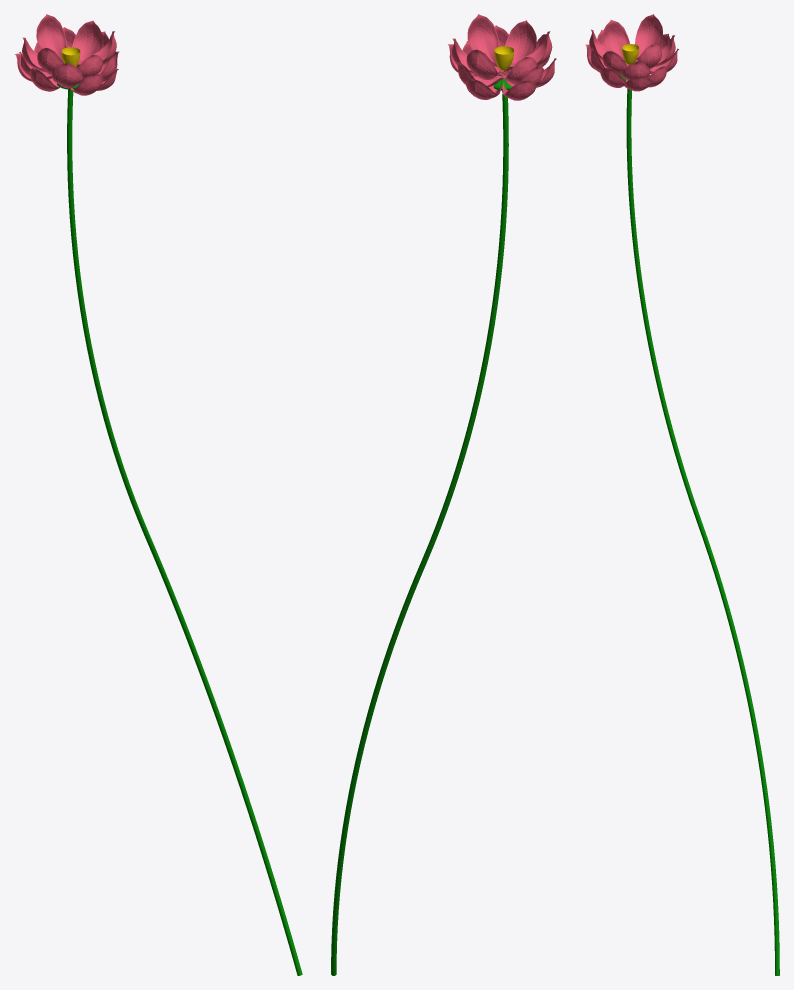
File: Lotus099.fbx
The picture shows the model from 3 angles, left to right: view 1: azimuth 30°, elevation 25°; view 2: azimuth 150°, elevation 25°; view 3: azimuth 330°, elevation 25°; orthographic projection. The views are drawn at different scales.
Visible parts, largest first — view 1: pCylinder5, nurbsToPoly23, nurbsToPoly19; view 2: pCylinder5, nurbsToPoly22, nurbsToPoly18, nurbsToPoly23, nurbsToPoly20, nurbsToPoly10; view 3: pCylinder5, nurbsToPoly23, nurbsToPoly20.
Part boxes in pixels (x1,y1,x2,y2): pCylinder5: [67, 89, 302, 975]; nurbsToPoly23: [36, 14, 67, 63]; nurbsToPoly19: [72, 20, 102, 60]; pCylinder5: [331, 90, 508, 975]; nurbsToPoly22: [467, 14, 499, 67]; nurbsToPoly18: [501, 20, 536, 71]; nurbsToPoly23: [466, 49, 500, 79]; nurbsToPoly20: [501, 56, 536, 84]; nurbsToPoly10: [465, 79, 501, 99]; pCylinder5: [626, 88, 779, 975]; nurbsToPoly23: [634, 14, 662, 59]; nurbsToPoly20: [602, 20, 629, 55].
Bounding box in the file's own units: 52.45 × 201 × 24.27.
